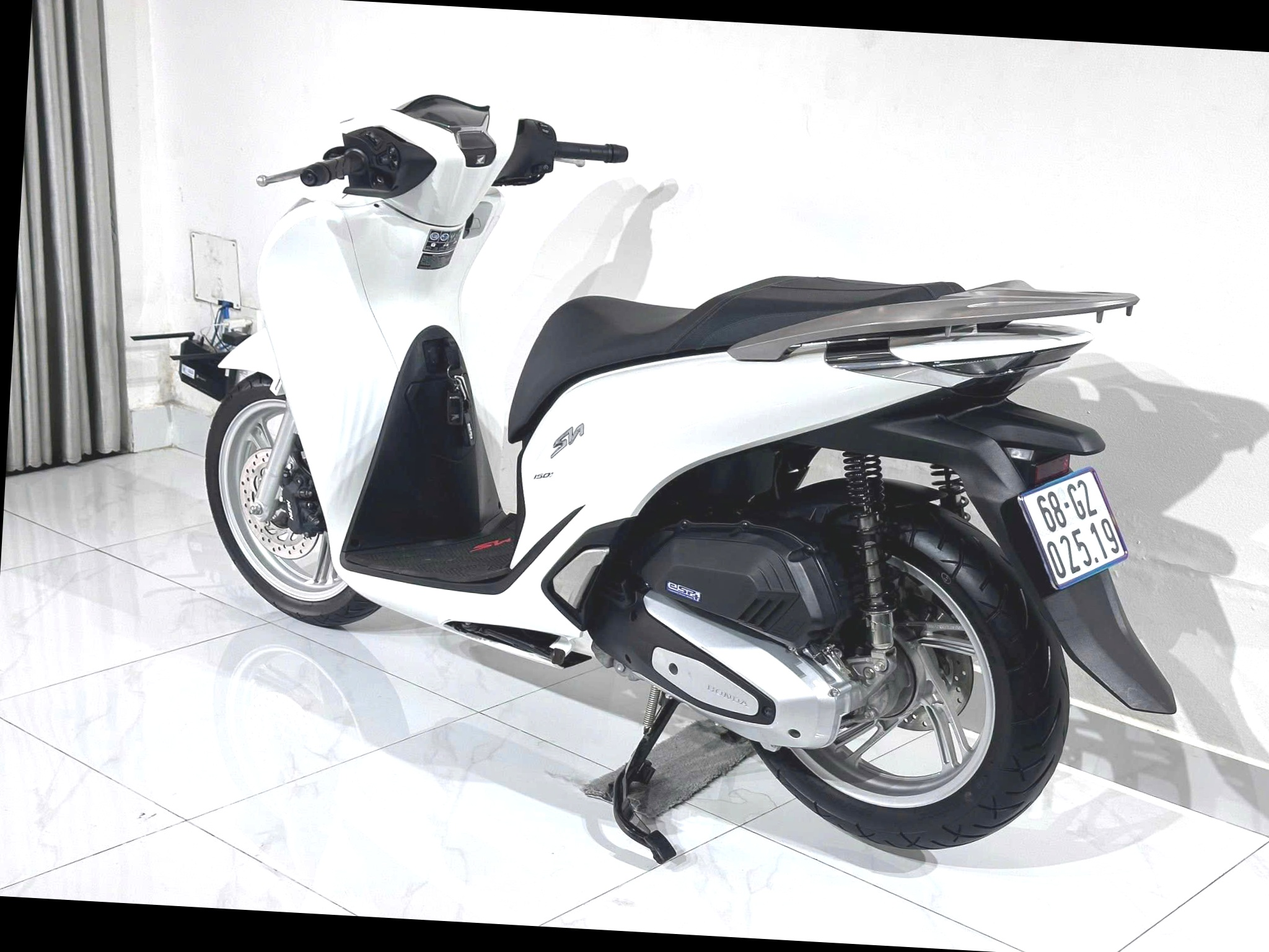Bien-so: (1015, 460, 1138, 593)
